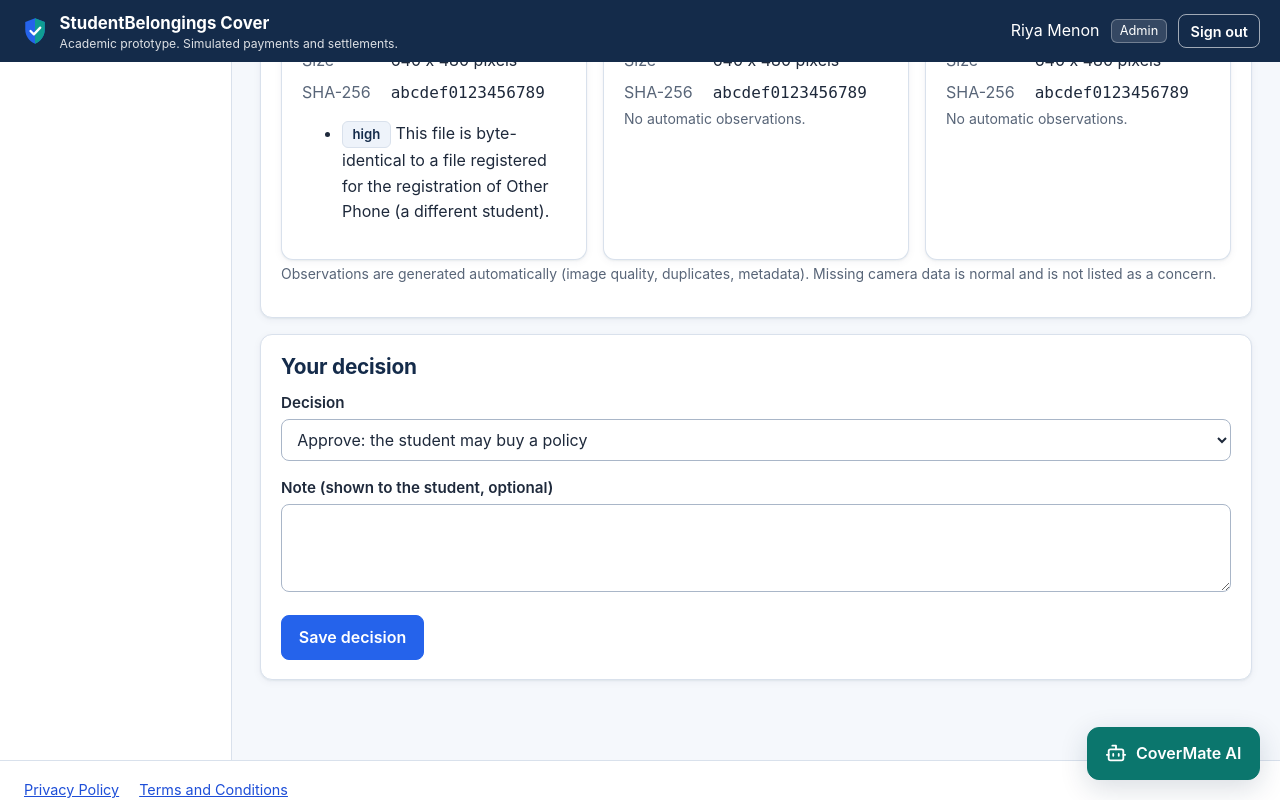
Test: administrator evidence review and AI analytics › shows the automatic observations and sends an approval, requiring a note for any other decision
The width and height of the screenshot is (1280, 800).
Later steps or results of the test are not shown.
(page scrolled)
Expected: the list item "byte-identical to a file registered for the registration of Other Phone" is shown, [342,123,549,221]
Expected: the text "Missing camera data is normal and is not listed as a concern" is shown, [281,265,1216,282]
Select "Reject the registration" in the dropdown labelled "Decision" at (756,440), box [281,419,1231,461]
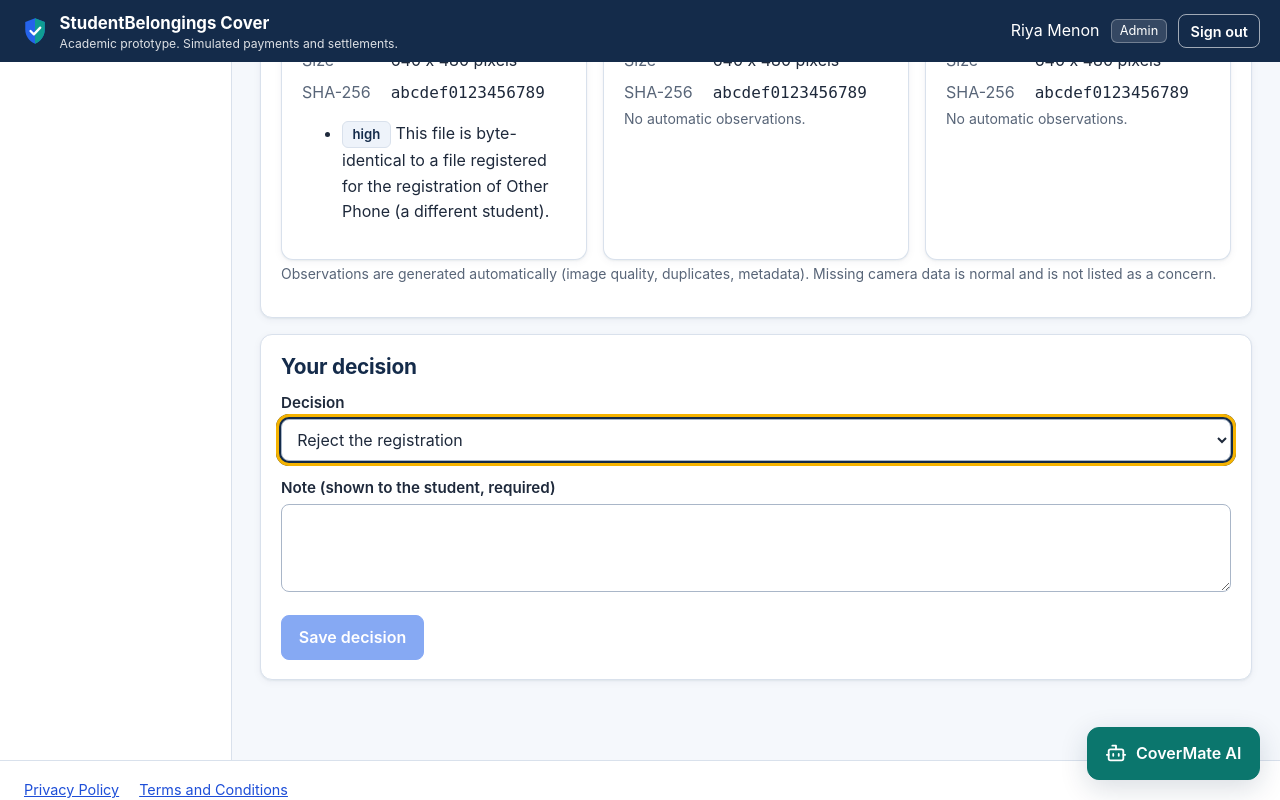
Now the button "Save decision" is disabled, box [281,615,424,660]
Type "The invoice is for a different product." into the text box labelled "Note (shown to the student, required)".
click(756, 548); type("The invoice is for a different product.")  # box [281,504,1231,592]
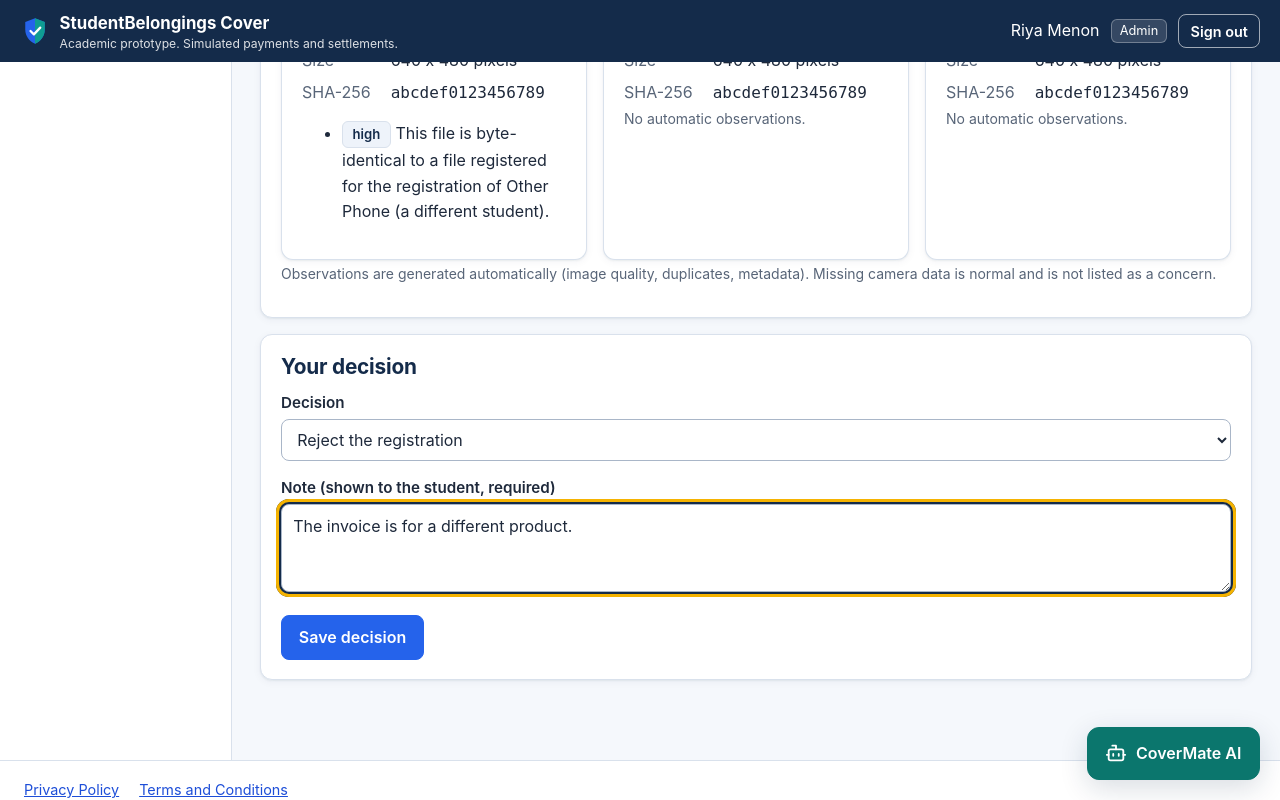
Now the button "Save decision" is enabled, box [281,615,424,660]
